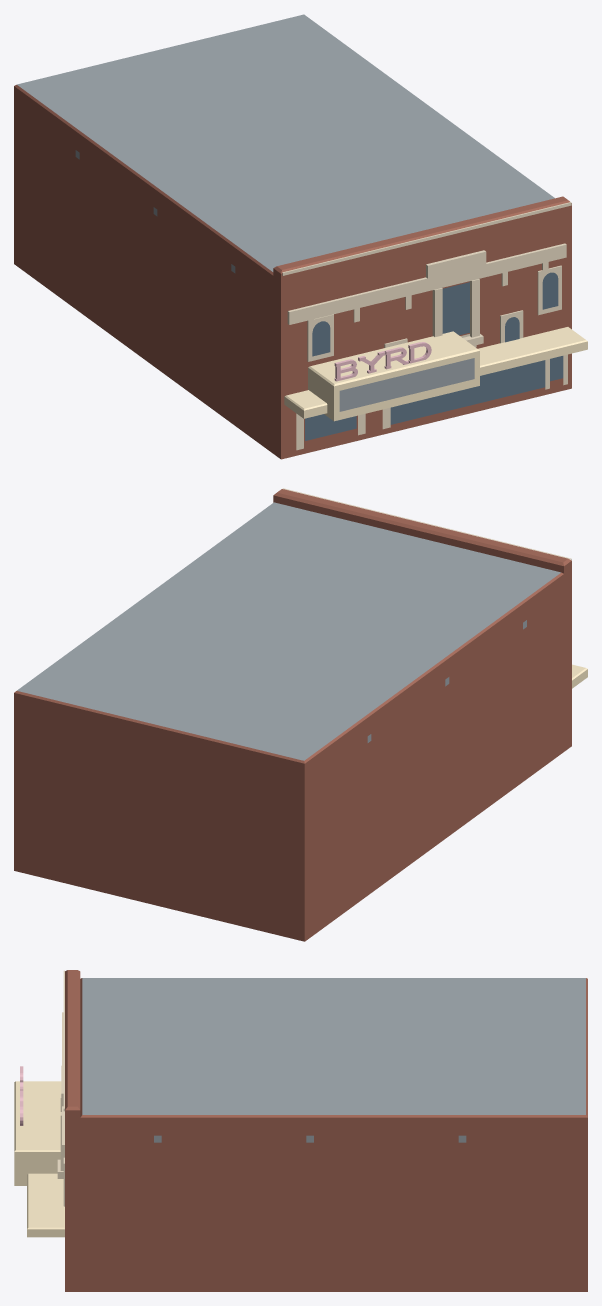
File: ric-byrd-theatre.glb
3 views of the same model, one above another, from view 1: azimuth 30°, elevation 25°; view 2: azimuth 150°, elevation 25°; view 3: azimuth 270°, elevation 25° (orthographic). The views are drawn at different scales.
Parts seen in each view (by area): view 1: Byrd Theatre; view 2: Byrd Theatre; view 3: Byrd Theatre.
Boxes of the visible parts, <box> form: Byrd Theatre: <box>14,14,587,459</box>; Byrd Theatre: <box>14,488,587,941</box>; Byrd Theatre: <box>14,970,587,1291</box>.
Bounding box in the file's own units: 25.98 × 16 × 45.23.
